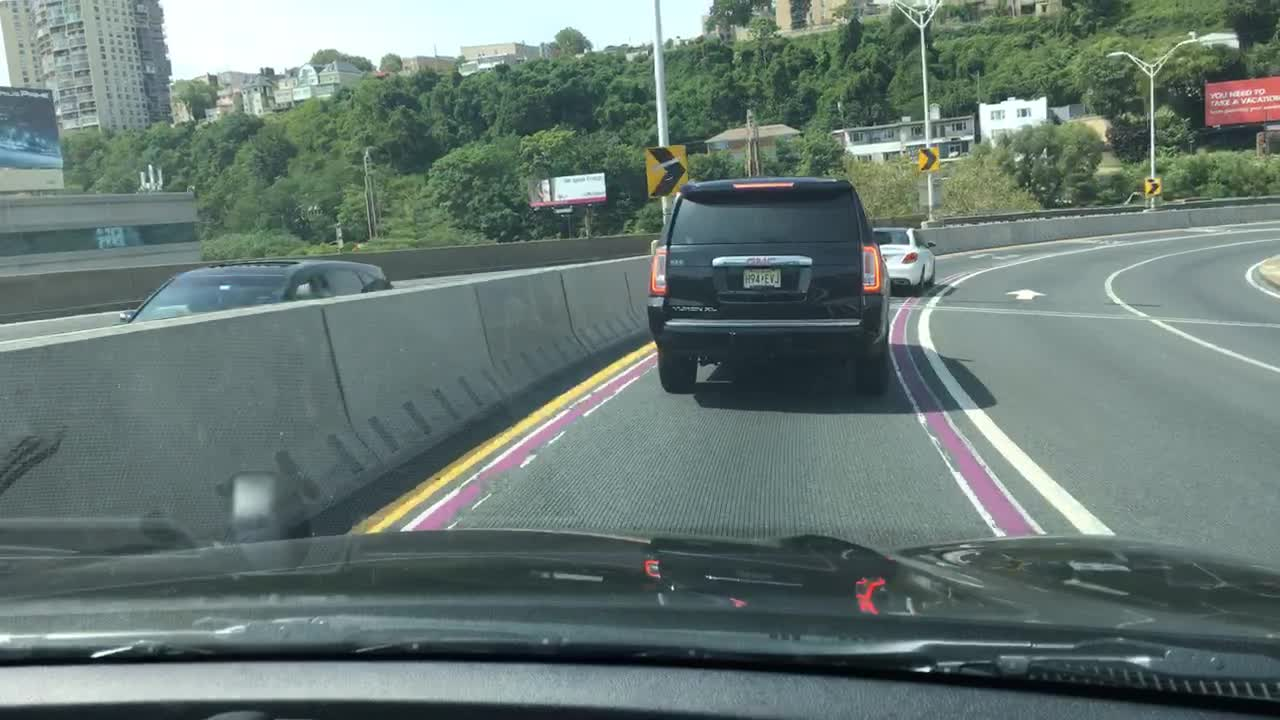car: (646, 177, 891, 398), (118, 258, 391, 331), (870, 224, 938, 292)
traffic sign: (643, 142, 685, 199), (918, 147, 940, 170), (1140, 175, 1159, 194)
